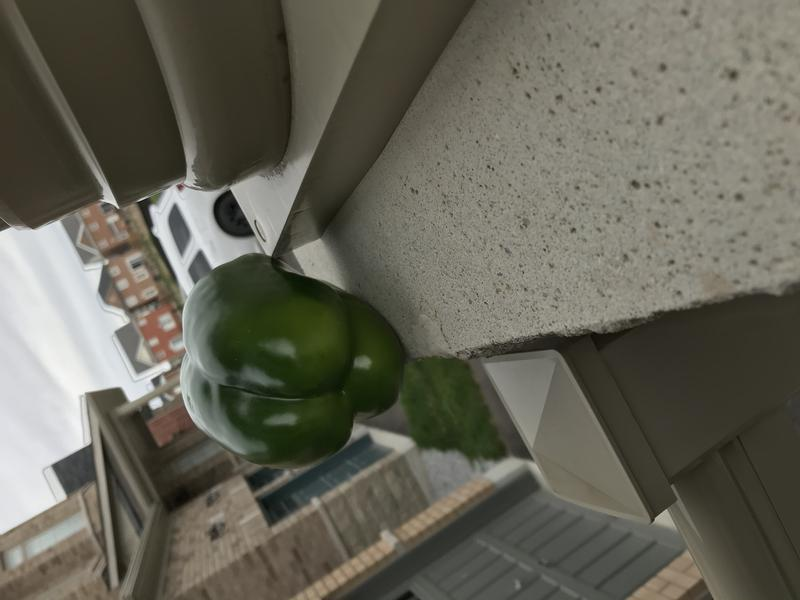green_pepper: (173, 253, 418, 473)
